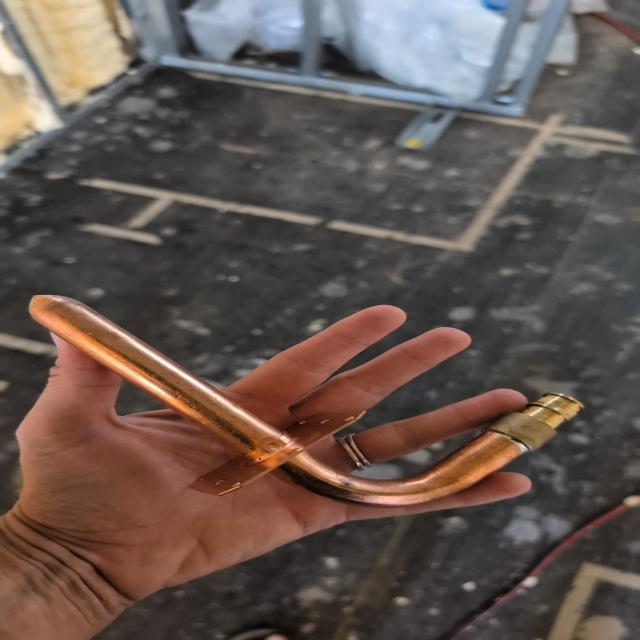wall_flange: (21, 290, 597, 517)
